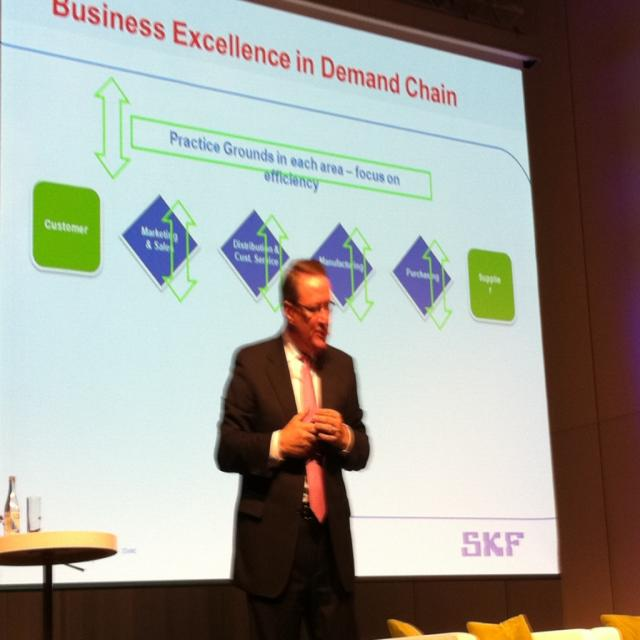desk: (0, 512, 121, 617)
person: (215, 258, 373, 635)
